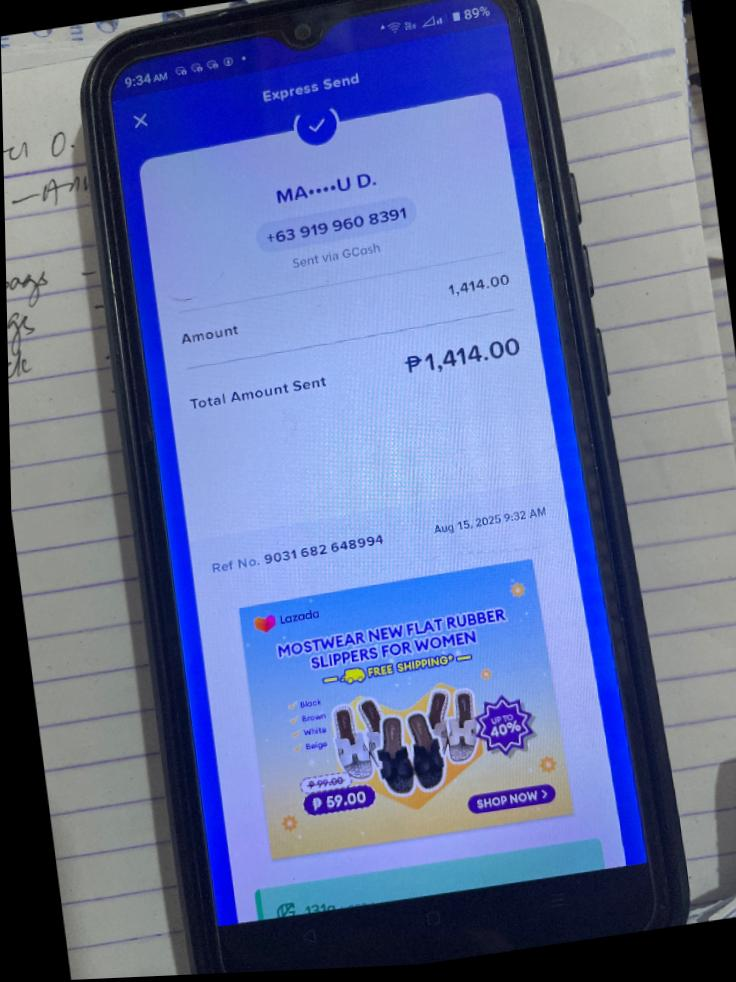Receipt: (111, 25, 648, 925)
